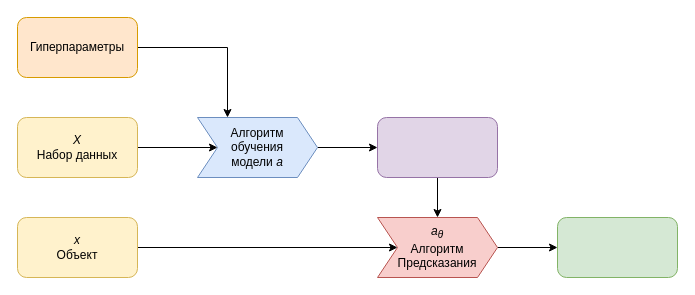
This 695x295 diagram has some shape labels left out. Here are the shapes that lost their labels. From the top down, the centre of each, then its label:
At point 437,147: "θ Параметры".
At point 617,247: "y Предсказание".
